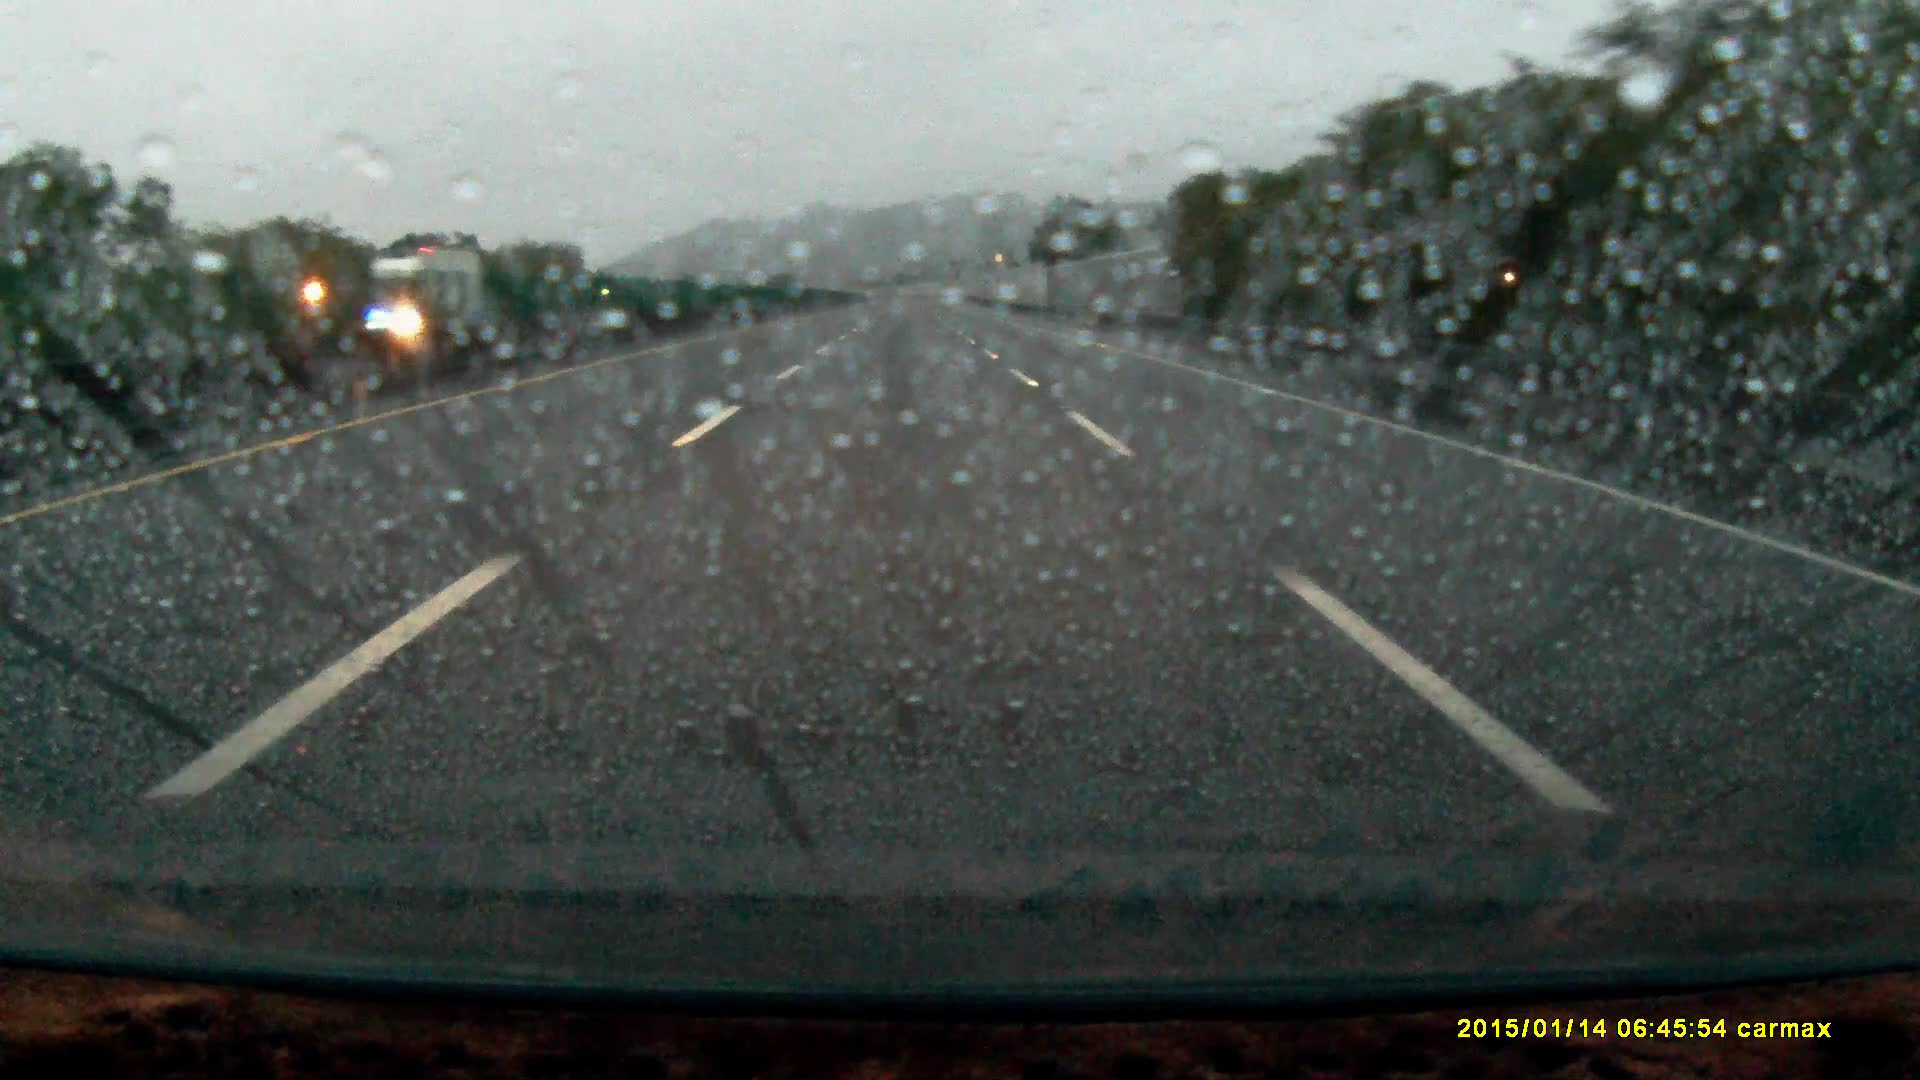vehicle: (349, 251, 484, 348)
